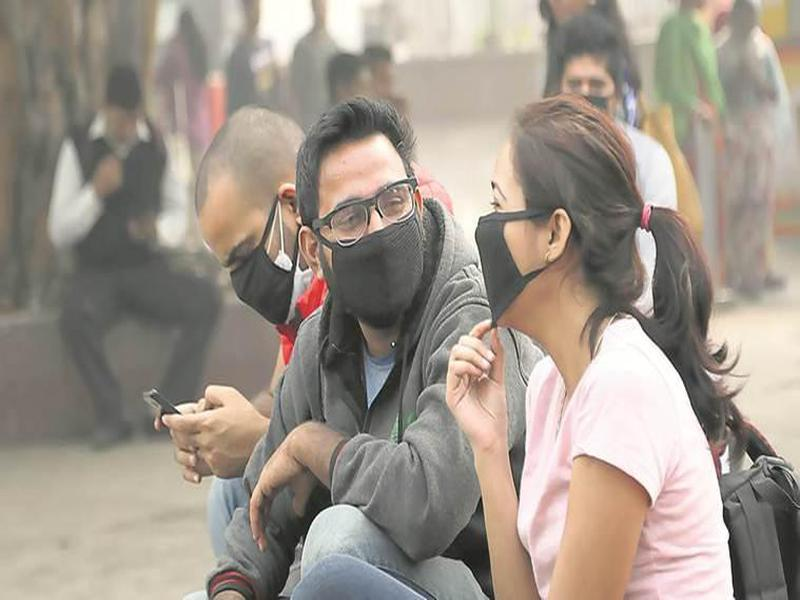with_mask: (474, 92, 645, 340), (293, 105, 437, 328), (191, 109, 293, 328)
